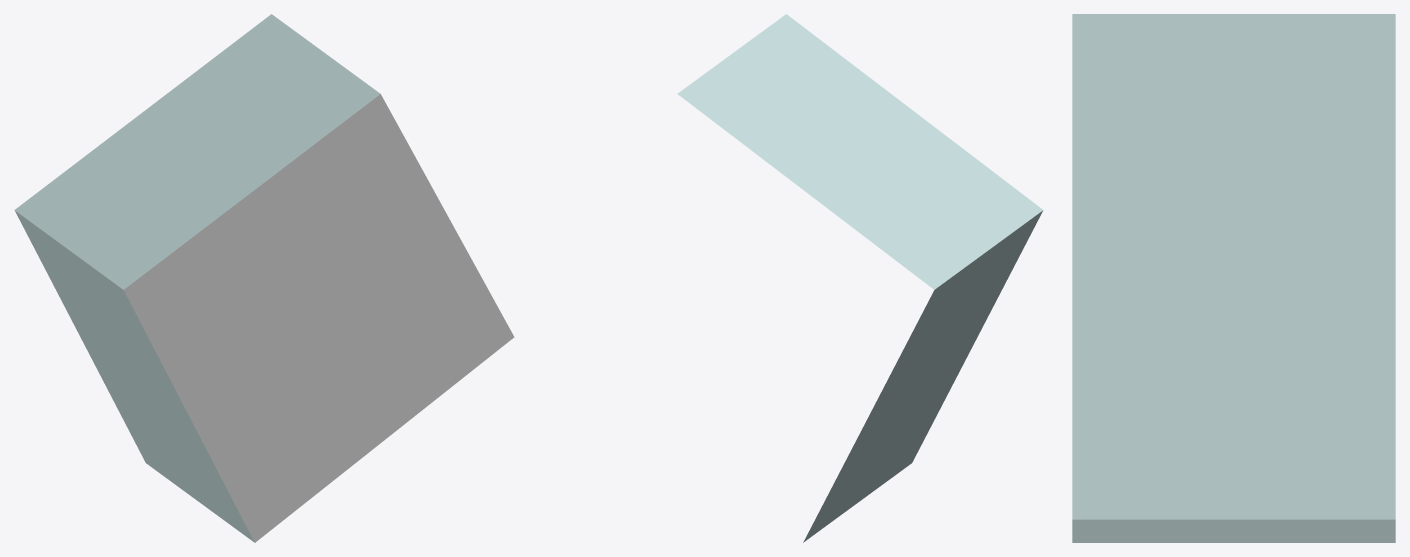
3 views of the same model, side by side, from view 1: azimuth 30°, elevation 25°; view 2: azimuth 150°, elevation 25°; view 3: azimuth 270°, elevation 25° (orthographic). The views are drawn at different scales.
Visible parts, largest first — view 1: 0_1_1_2_3_0_3_1_0; view 2: 0_1_1_2_3_0_3_1_0; view 3: 0_1_1_2_3_0_3_1_0.
Boxes of the visible parts, bbox=[...] form: 0_1_1_2_3_0_3_1_0: bbox=[14, 14, 514, 542]; 0_1_1_2_3_0_3_1_0: bbox=[677, 14, 1043, 542]; 0_1_1_2_3_0_3_1_0: bbox=[1072, 14, 1395, 542].
Bounding box in the file's own units: 6.2 × 6.34 × 3.
